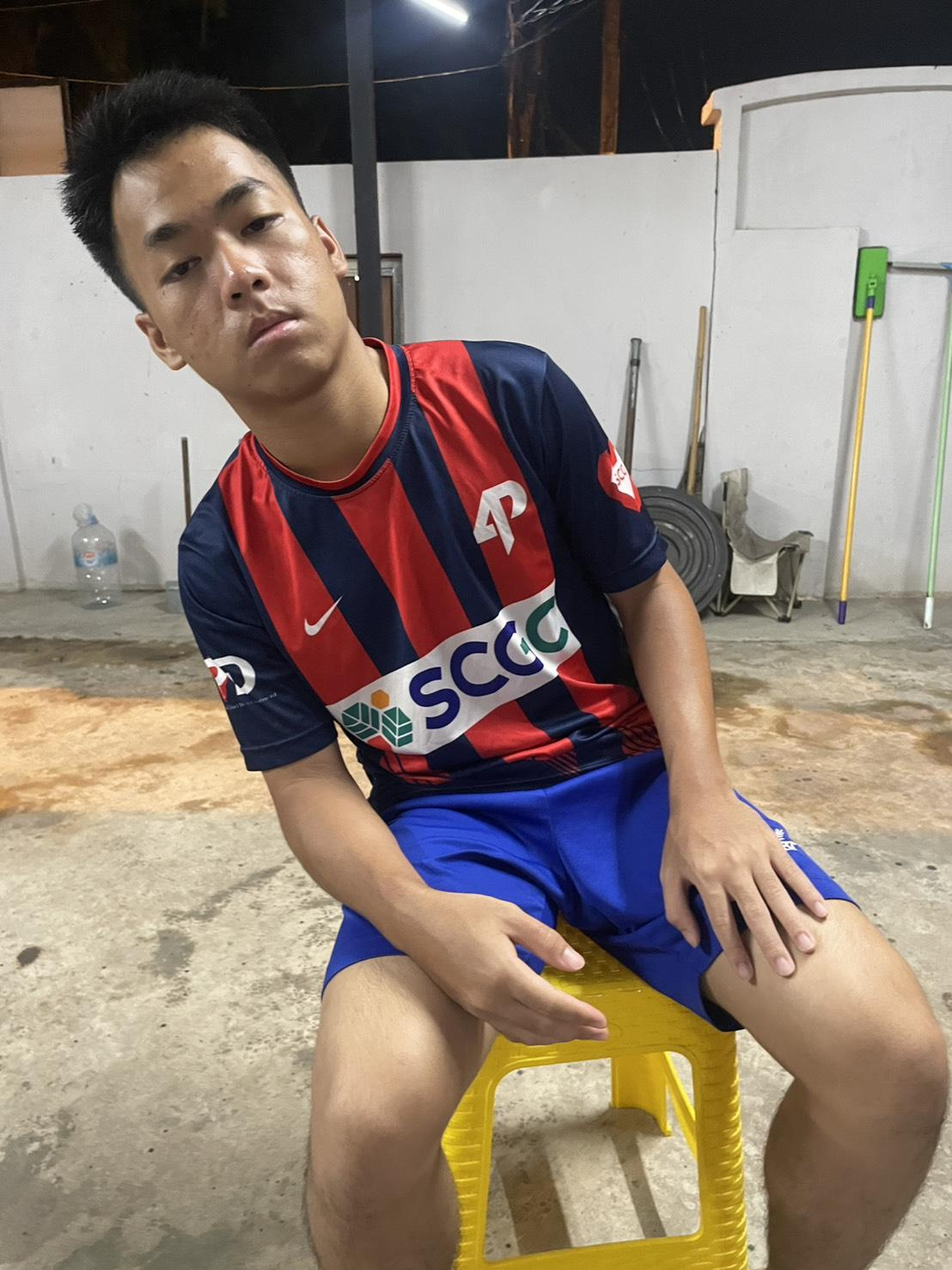BadPosture: (63, 72, 841, 915)
